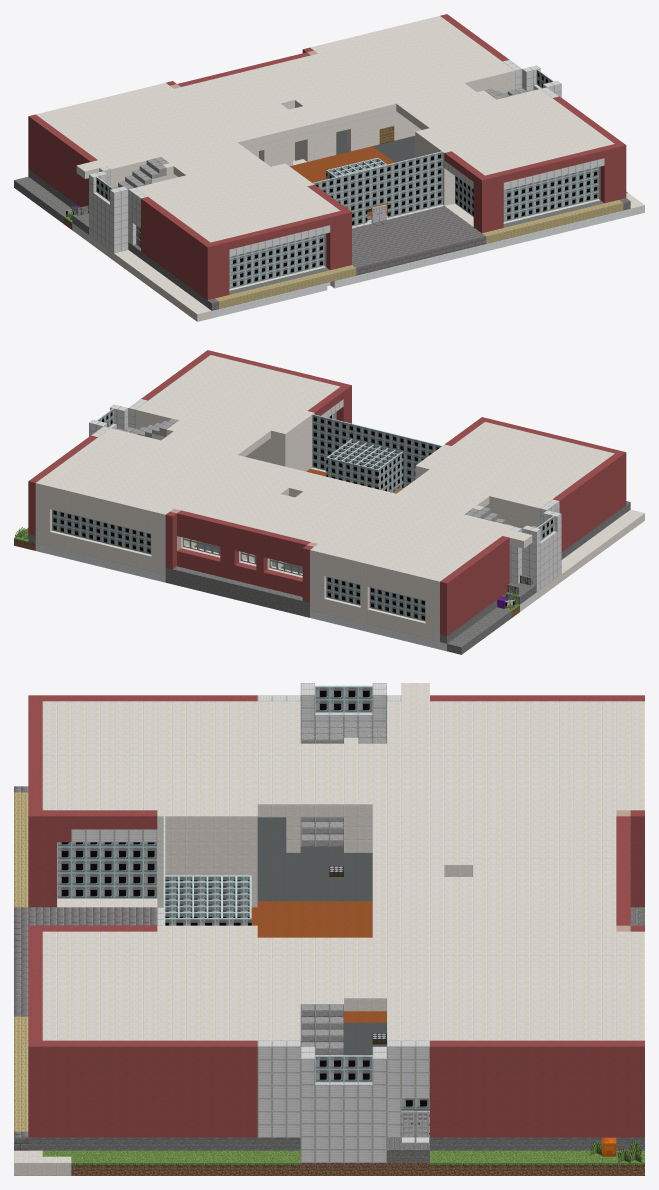
File: senkoka1F.obj
The picture shows the model from 3 angles, top to bottom: view 1: azimuth 30°, elevation 25°; view 2: azimuth 150°, elevation 25°; view 3: azimuth 270°, elevation 25°; orthographic projection. The views are drawn at different scales.
Parts seen in each view (by area): view 1: R1KosenWorld__5_64_-215_to_66_72_-172; view 2: R1KosenWorld__5_64_-215_to_66_72_-172; view 3: R1KosenWorld__5_64_-215_to_66_72_-172.
Boxes of the visible parts, box(x1,y1,x2,y2) form: R1KosenWorld__5_64_-215_to_66_72_-172: box(14, 14, 644, 321); R1KosenWorld__5_64_-215_to_66_72_-172: box(14, 350, 644, 654); R1KosenWorld__5_64_-215_to_66_72_-172: box(14, 683, 644, 1175).
Size of the model in its own units: 62.05 by 10 by 44.
